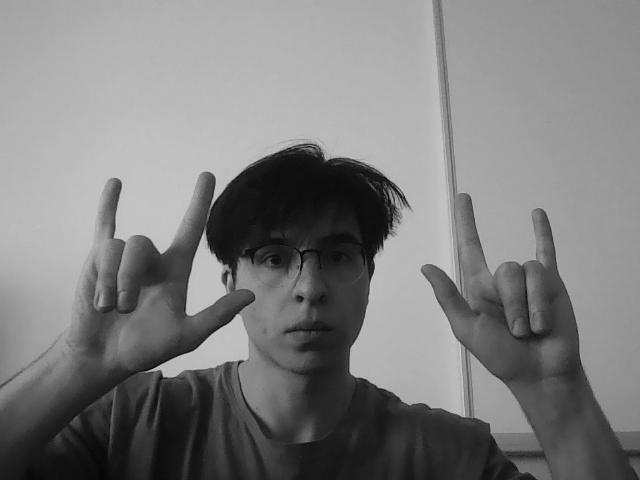I_Love_You: (400, 185, 584, 405), (86, 159, 248, 385)
